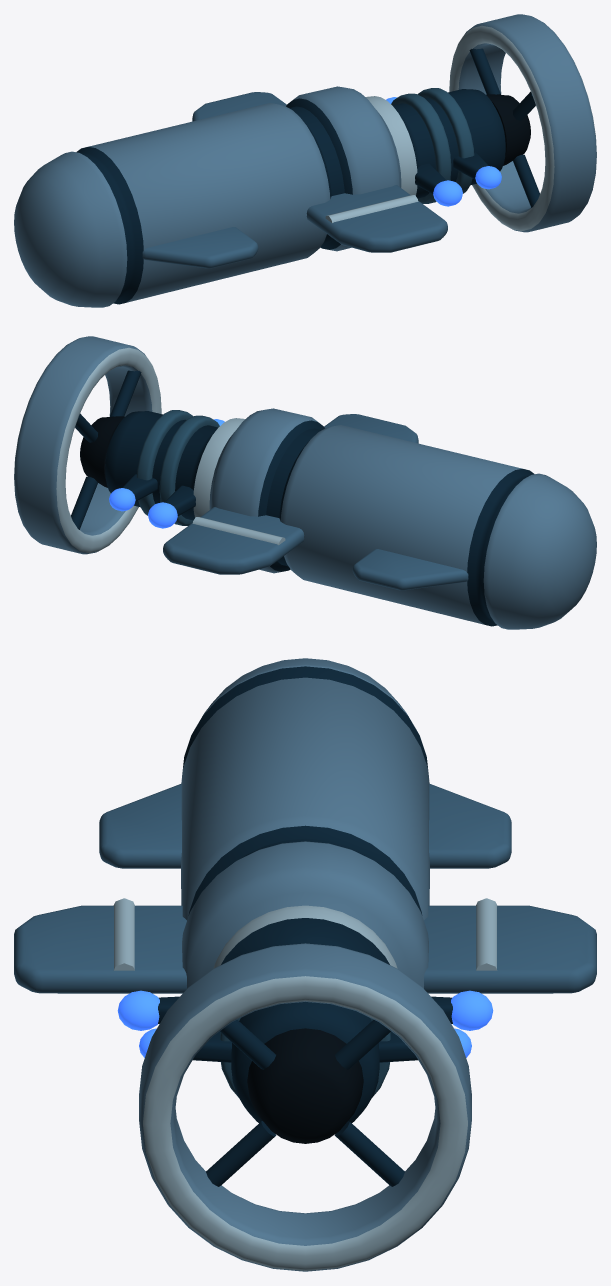
The model's file is blue_torpedo_l.glb.
3 views of the same model, one above another, from view 1: azimuth 30°, elevation 25°; view 2: azimuth 150°, elevation 25°; view 3: azimuth 270°, elevation 25° (orthographic). The views are drawn at different scales.
Visible parts, largest first — view 1: body, tail_ring, wing_d, canard_d, rib1, rib0, nozzle, wing_u, wing_rib_d, ring_strut0, ring_strut2, lamp_d1 (+3 smaller); view 2: body, tail_ring, wing_u, canard_u, rib1, rib0, nozzle, wing_d, wing_rib_u, ring_strut1, ring_strut3, lamp_u1 (+3 smaller); view 3: body, tail_ring, wing_d, wing_u, nozzle, canard_d, canard_u, ring_strut2, ring_strut3, wing_rib_d, wing_rib_u, lamp_d1 (+3 smaller).
Part boxes in pixels (box(x1,y1,x2,y2)): body: box(14, 86, 505, 307); tail_ring: box(449, 14, 596, 232); wing_d: box(306, 185, 447, 252); canard_d: box(142, 227, 258, 268); rib1: box(391, 93, 451, 203); rib0: box(417, 88, 474, 193); nozzle: box(486, 94, 530, 165); wing_u: box(192, 92, 286, 121); wing_rib_d: box(325, 195, 418, 223); ring_strut0: box(469, 48, 500, 94); ring_strut2: box(513, 154, 539, 207); lamp_d1: box(433, 180, 462, 206); body: box(105, 408, 596, 629); tail_ring: box(14, 336, 161, 554); wing_u: box(163, 507, 304, 574); canard_u: box(352, 549, 468, 590); rib1: box(159, 415, 219, 525); rib0: box(136, 410, 193, 515); nozzle: box(80, 416, 124, 487); wing_d: box(324, 414, 418, 443); wing_rib_u: box(192, 517, 285, 545); ring_strut1: box(110, 370, 141, 416); ring_strut3: box(71, 476, 97, 529); lamp_u1: box(148, 502, 177, 528); body: box(181, 658, 429, 1122); tail_ring: box(139, 943, 471, 1271); wing_d: box(14, 905, 186, 993); wing_u: box(424, 905, 596, 993); nozzle: box(247, 1028, 363, 1143); canard_d: box(99, 783, 181, 868); canard_u: box(429, 783, 511, 868); ring_strut2: box(206, 1121, 276, 1186); ring_strut3: box(334, 1121, 404, 1186); wing_rib_d: box(113, 898, 134, 970); wing_rib_u: box(476, 898, 497, 970); lamp_d1: box(117, 990, 159, 1030).
Size of the model in its own units: 22.28 by 8 by 14.
